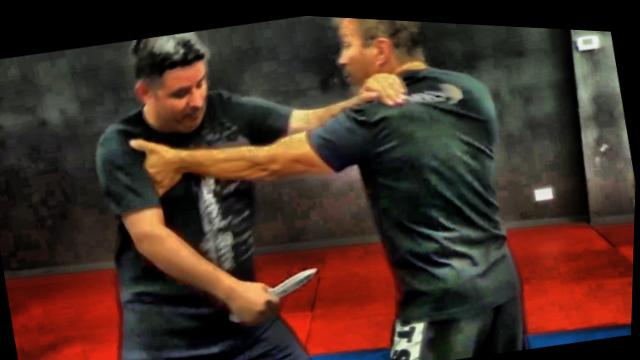knife: (221, 253, 330, 328)
